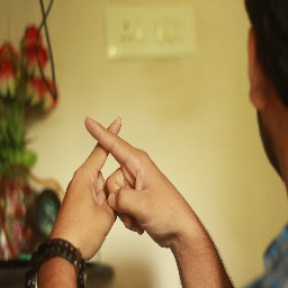X: (57, 102, 163, 208)
